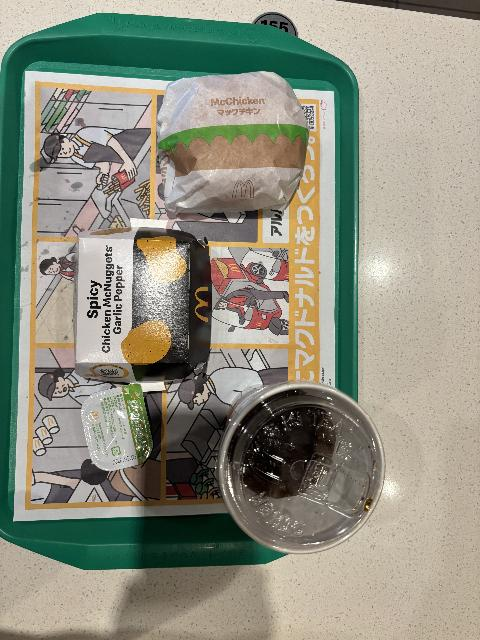burger: (156, 69, 311, 216)
drink: (216, 380, 387, 555)
nuggets: (74, 218, 213, 393)
sauce: (82, 384, 152, 471)
